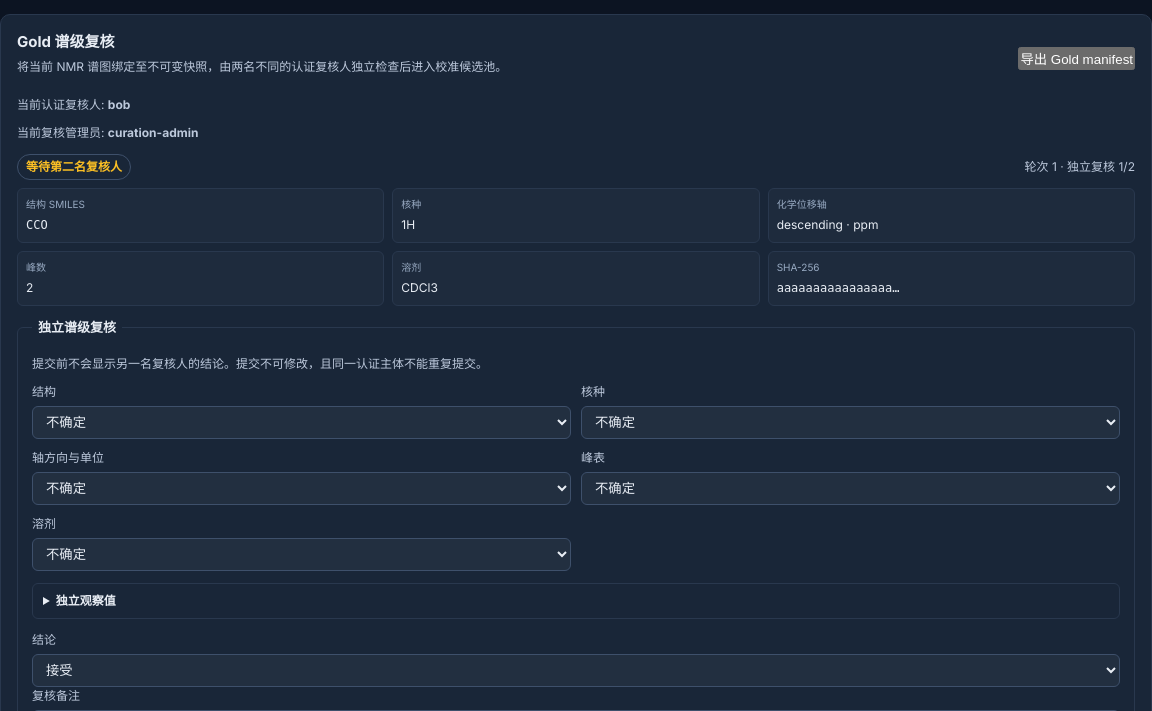
SpectrumGoldReviewPanel › submits all five checks without accepting a client reviewer identity
Expected: the text "bob" is shown, [108,96,130,112]
Expected: the element with class "gold-review-status-row" shows "1/2", [17,154,1135,180]
Select "通过" in the dropdown labelled "结构" at (302, 422), box [32,406,571,439]
Select "通过" in the dropdown labelled "核种" at (850, 422), box [581,406,1120,439]
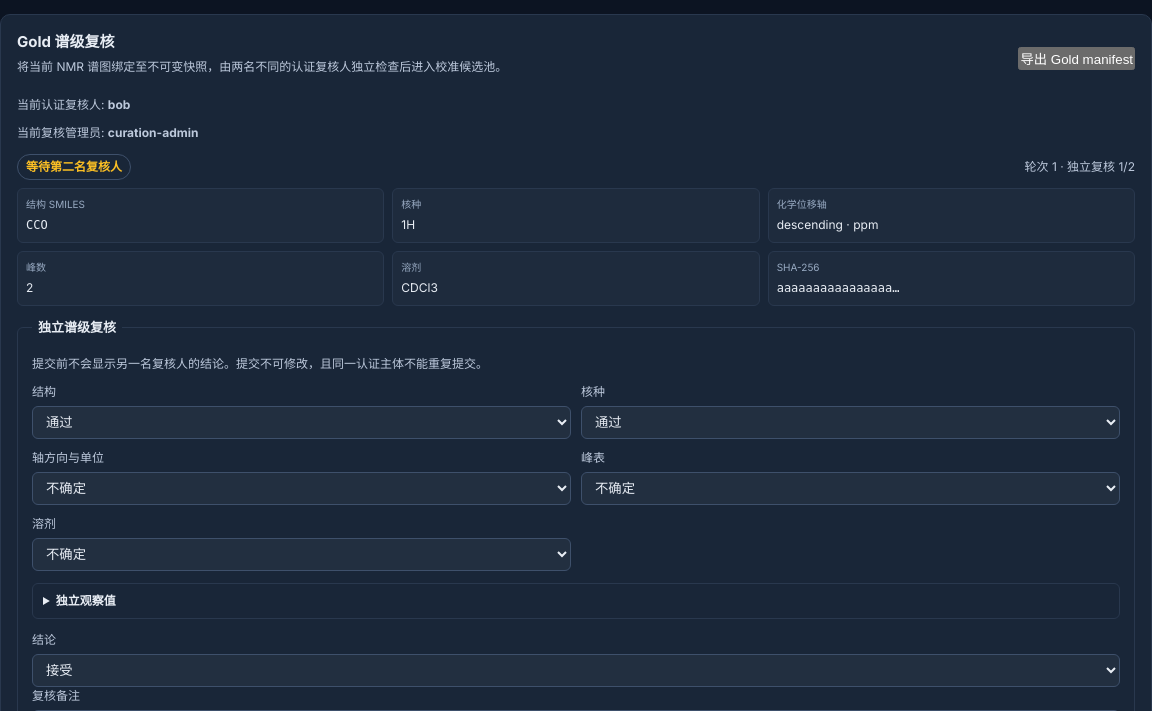
Select "通过" in the dropdown labelled "轴方向与单位" at (302, 488), box [32,472,571,505]
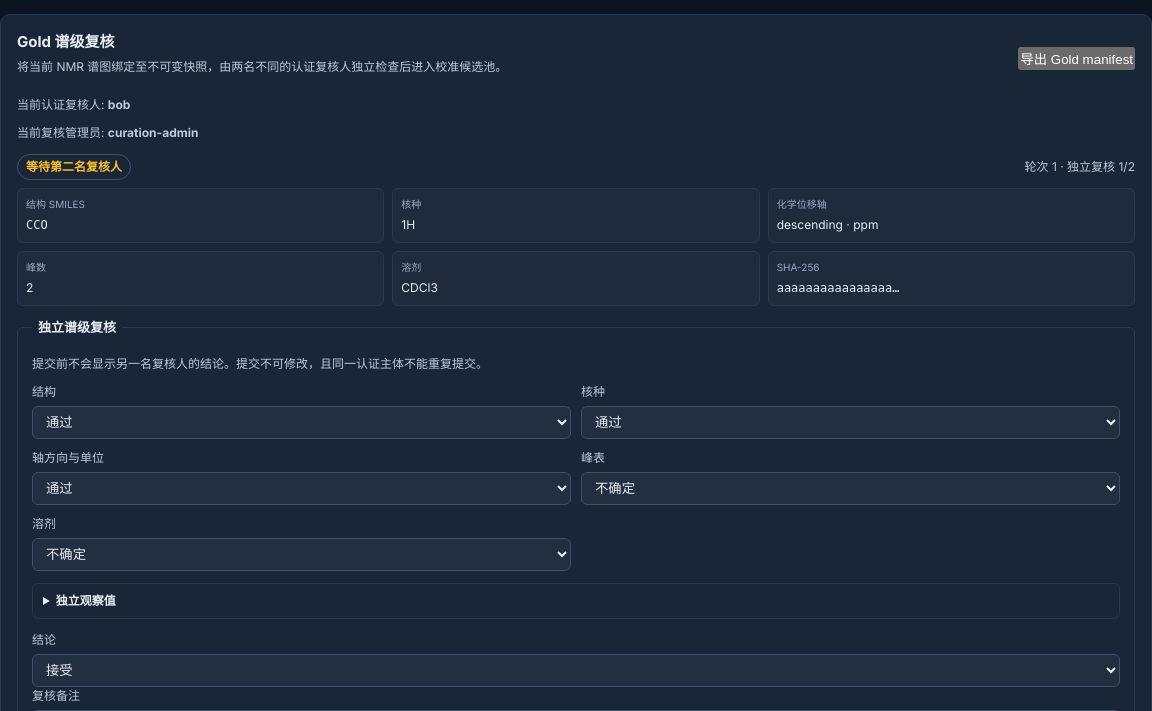
Select "通过" in the dropdown labelled "峰表" at (850, 488), box [581,472,1120,505]
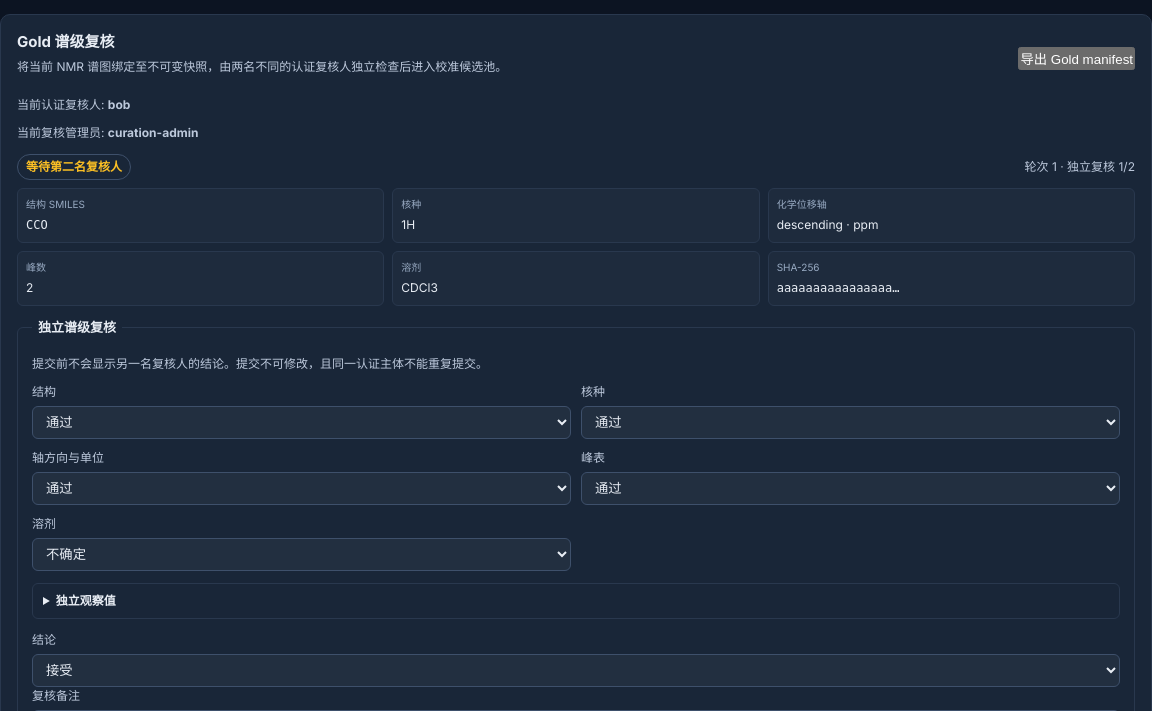
Select "通过" in the dropdown labelled "溶剂" at (302, 554), box [32,538,571,571]
(page scrolled)
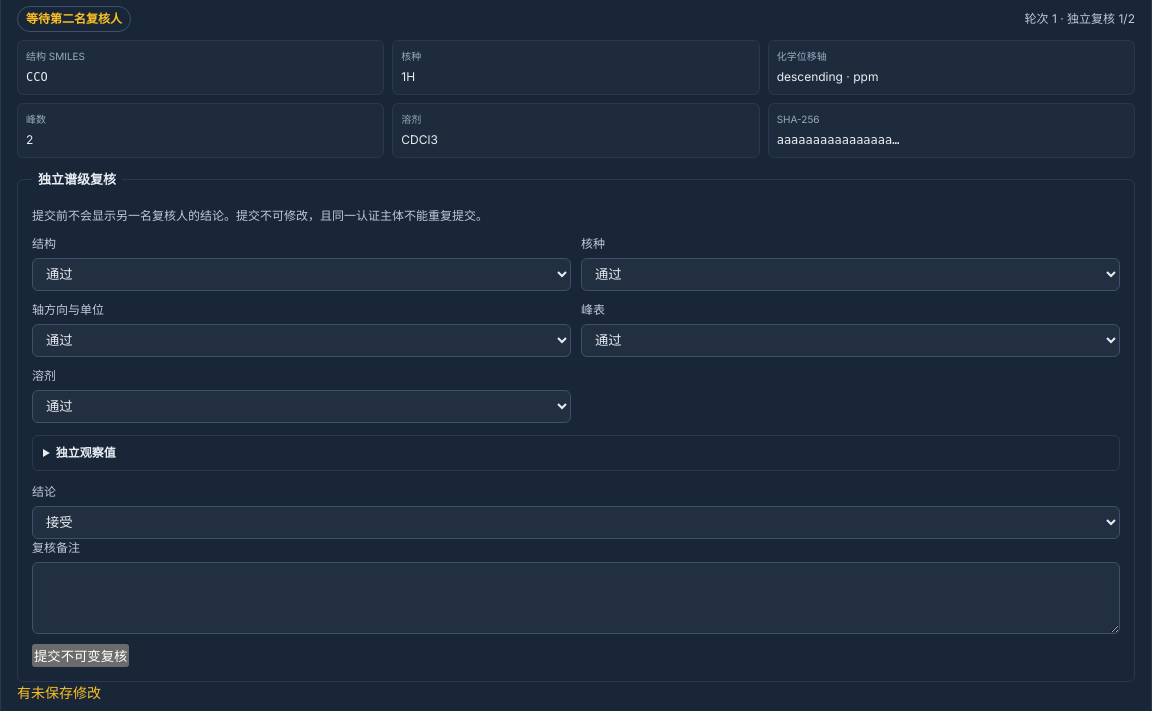
Click the button "提交不可变复核" at (81, 656), box [32,644,129,667]
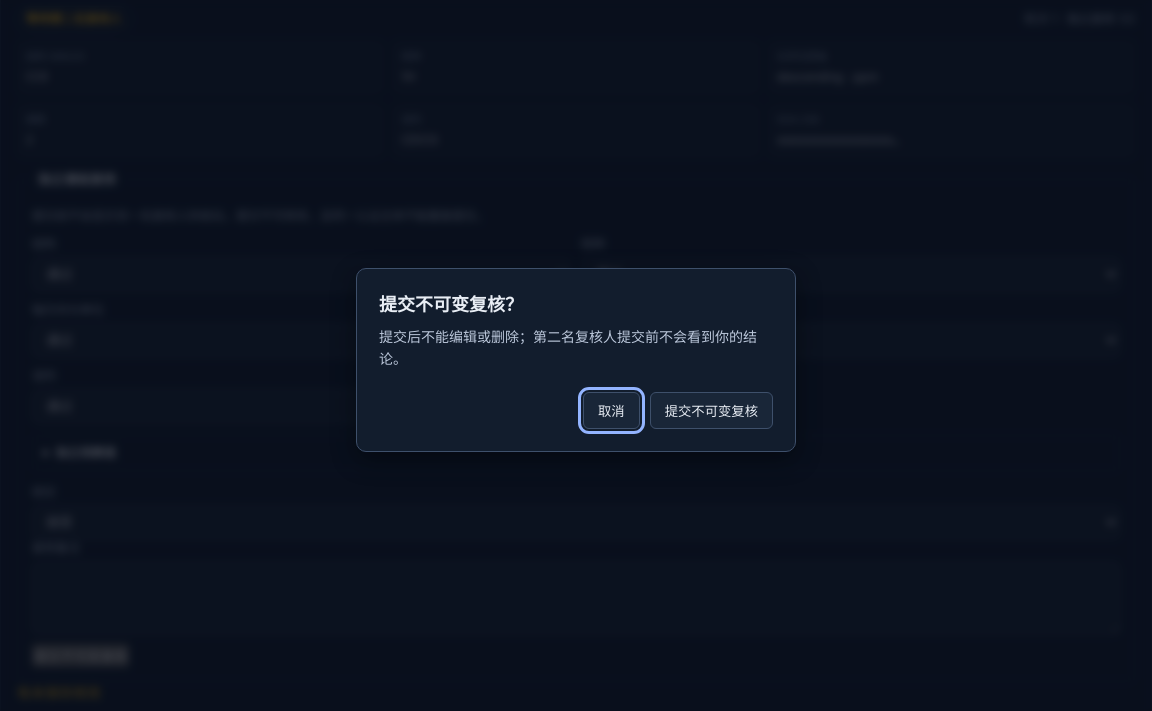
Click the button "提交不可变复核" at (711, 411), box [650,392,773,429]
(page scrolled)
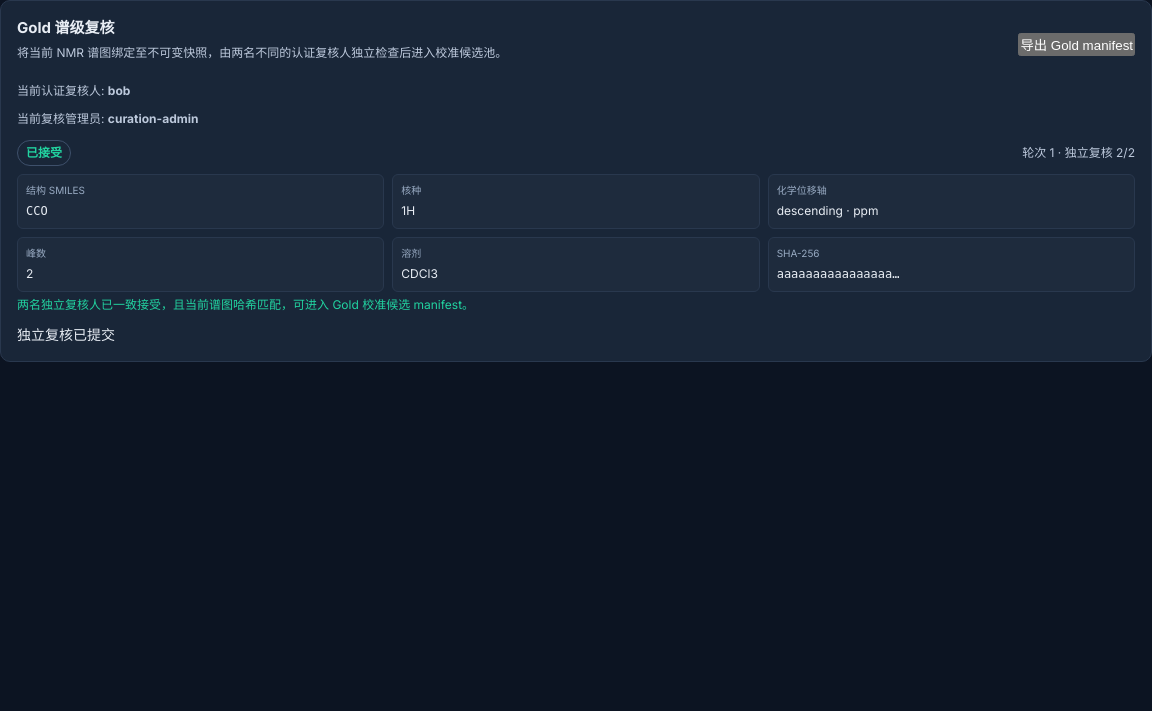
Expected: the text "两名独立复核人已一致接受，且当前谱图哈希匹配，可进入 Gold 校准候选 manifest。" is shown, [17,296,474,312]
